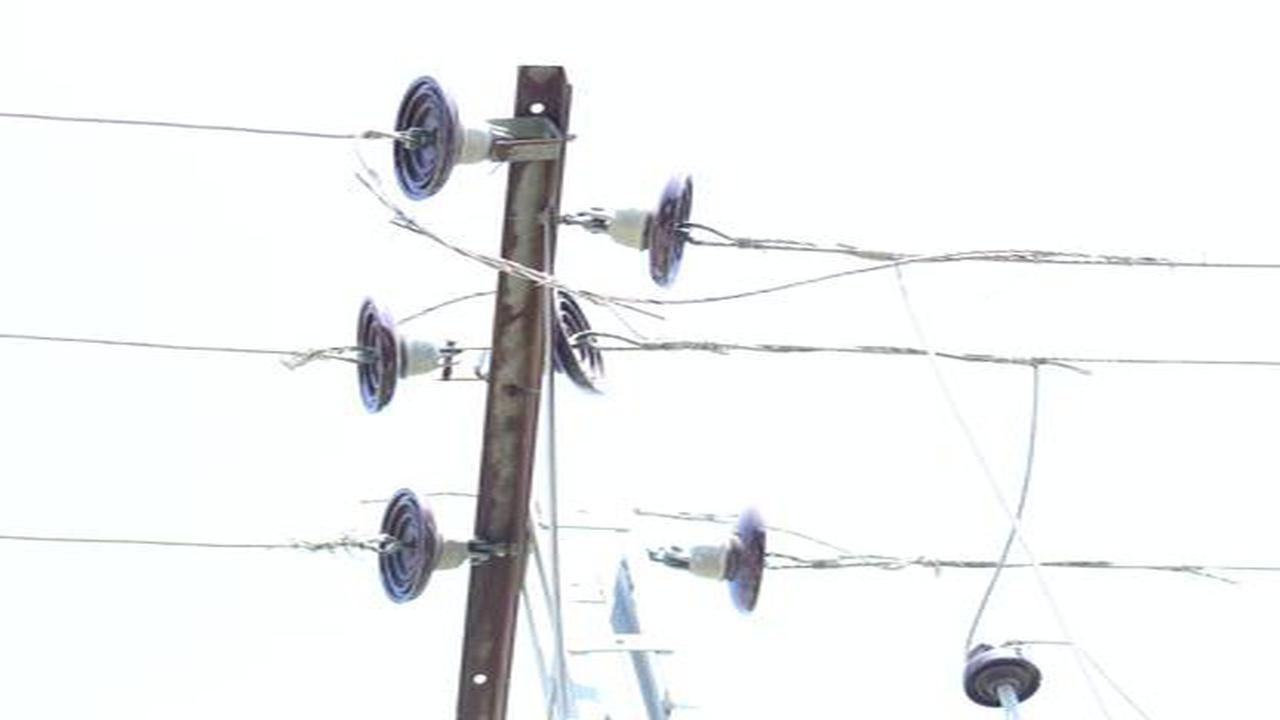insulator_disc: (389, 75, 485, 204), (347, 295, 437, 419), (368, 488, 454, 606), (618, 170, 701, 290), (696, 501, 771, 623), (548, 280, 612, 404)
insulator_pin: (958, 637, 1046, 710)
